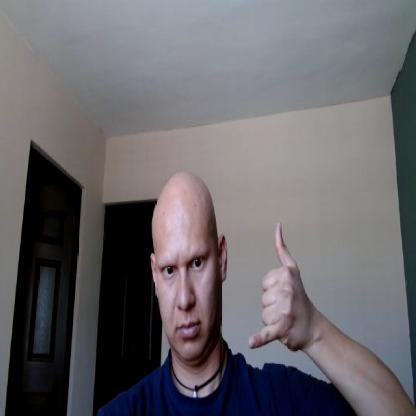Y: (248, 221, 308, 350)
